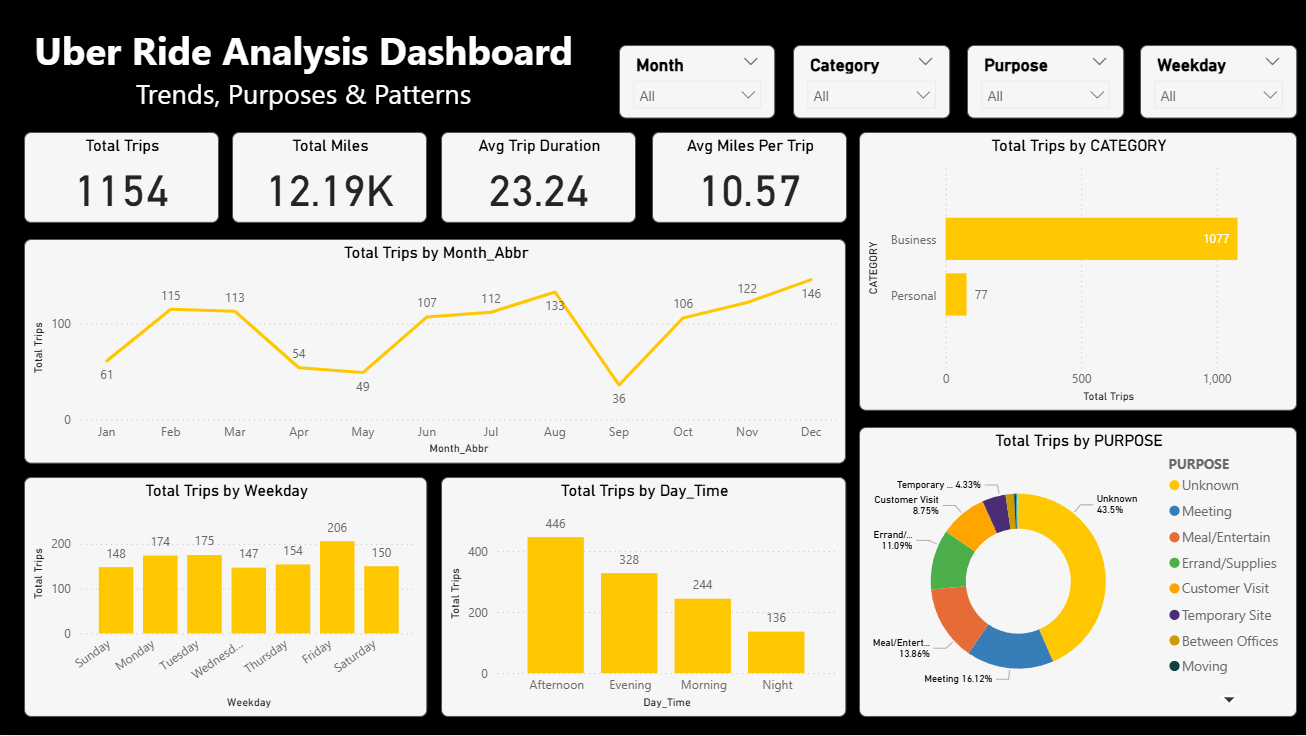

Layout of this report page (visuals, bound fields, positions):
{"tool":"powerbi","page":{"name":"Page 1","canvas":[1280,720],"ordinal":0},"visuals":[{"type":"textbox","box":[23.3,18.5,547.6,101.2],"z":0},{"type":"card","title":"Avg Miles Per Trip","fields":{"Values":["Table.Avg Miles per Trip"]},"box":[638.1,129.4,190.6,88.5],"z":1000},{"type":"card","title":"Avg Trip Duration","fields":{"Values":["Avg(Table.Duration_MIN)"]},"box":[431.9,129.4,190.6,88.5],"z":2000},{"type":"card","title":"Total Trips","fields":{"Values":["Table.Total Trips"]},"box":[23.3,129.4,190.6,88.5],"z":3000},{"type":"card","title":"Total Miles","fields":{"Values":["Table.Total Miles"]},"box":[227.6,129.4,190.6,88.5],"z":4000},{"type":"lineChart","fields":{"Y":["Table.Total Trips"],"Category":["Table.Month_Abbr"]},"box":[23.3,234.4,805.3,219.8],"z":5000},{"type":"columnChart","fields":{"Y":["Table.Total Trips"],"Category":["Table.Weekday"]},"box":[23.3,466.9,394.9,235.4],"z":6000},{"type":"slicer","fields":{"Values":["Table.Month_Name"]},"box":[606.1,44,153.1,72.1],"z":7000},{"type":"slicer","fields":{"Values":["Table.CATEGORY"]},"box":[776.8,44,154,72.1],"z":8000},{"type":"slicer","fields":{"Values":["Table.PURPOSE"]},"box":[946.6,44,154,72.1],"z":9000},{"type":"slicer","fields":{"Values":["Table.Weekday"]},"box":[1116.4,44,154,72.1],"z":10000},{"type":"barChart","fields":{"Category":["Table.CATEGORY"],"Y":["Table.Total Trips"]},"box":[841.3,129.4,428.9,273.3],"z":11000},{"type":"donutChart","fields":{"Category":["Table.PURPOSE"],"Y":["Table.Total Trips"]},"box":[841.3,418.2,428.9,284],"z":12000},{"type":"columnChart","fields":{"Y":["Table.Total Trips"],"Category":["Table.Day_Time"]},"box":[431.9,466.9,396.8,235.4],"z":13000}]}

Visuals, with their boxes in screenshot pixels (x1, y1, x2, y2), scaled from the page's 1280x720 canvas onto the 1306x736 screenshot:
textbox: {"x1": 24, "y1": 19, "x2": 582, "y2": 122}
"Avg Miles Per Trip" card: {"x1": 651, "y1": 132, "x2": 846, "y2": 223}
"Avg Trip Duration" card: {"x1": 441, "y1": 132, "x2": 635, "y2": 223}
"Total Trips" card: {"x1": 24, "y1": 132, "x2": 218, "y2": 223}
"Total Miles" card: {"x1": 232, "y1": 132, "x2": 427, "y2": 223}
lineChart - Table.Total Trips x Table.Month_Abbr: {"x1": 24, "y1": 240, "x2": 845, "y2": 464}
columnChart - Table.Total Trips x Table.Weekday: {"x1": 24, "y1": 477, "x2": 427, "y2": 718}
slicer - Table.Month_Name: {"x1": 618, "y1": 45, "x2": 775, "y2": 119}
slicer - Table.CATEGORY: {"x1": 793, "y1": 45, "x2": 950, "y2": 119}
slicer - Table.PURPOSE: {"x1": 966, "y1": 45, "x2": 1123, "y2": 119}
slicer - Table.Weekday: {"x1": 1139, "y1": 45, "x2": 1296, "y2": 119}
barChart - Table.CATEGORY x Table.Total Trips: {"x1": 858, "y1": 132, "x2": 1296, "y2": 412}
donutChart - Table.PURPOSE x Table.Total Trips: {"x1": 858, "y1": 427, "x2": 1296, "y2": 718}
columnChart - Table.Total Trips x Table.Day_Time: {"x1": 441, "y1": 477, "x2": 846, "y2": 718}
